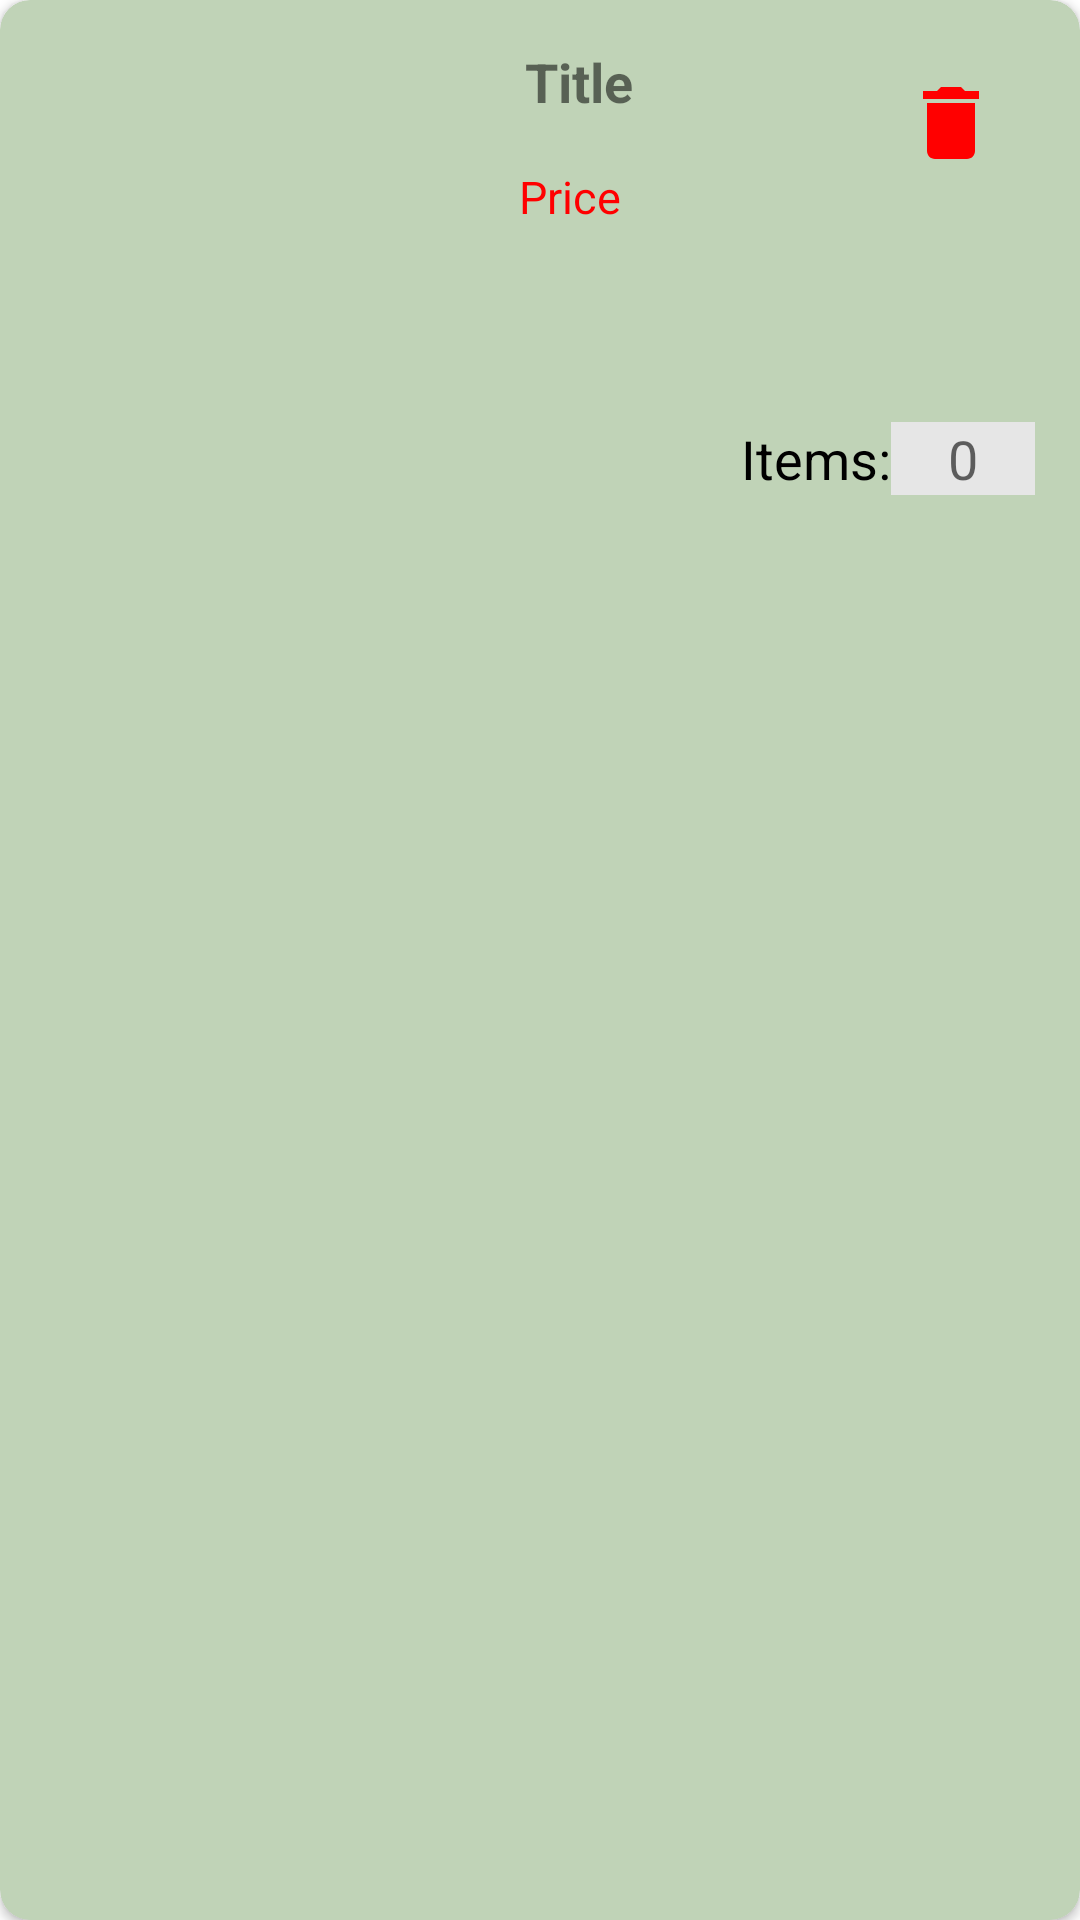

Where to tap for icons on this 1080 × 1920 app screen, as point (x, y):
delete: point (951, 123)
